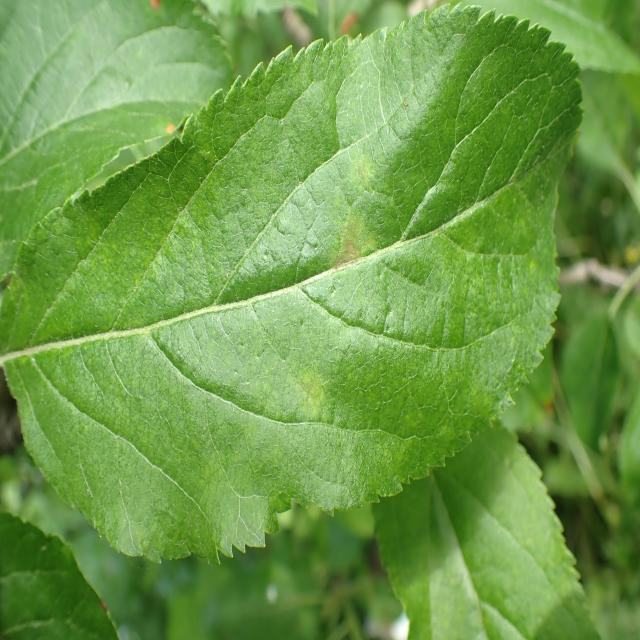scab: (270, 130, 444, 489)
